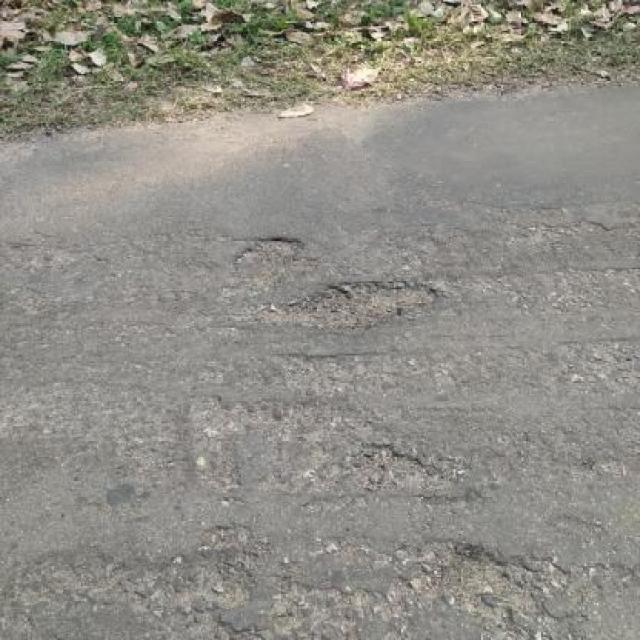Pothole: (274, 278, 440, 327), (417, 538, 518, 614), (342, 440, 451, 492), (178, 559, 258, 606), (230, 232, 304, 272)
